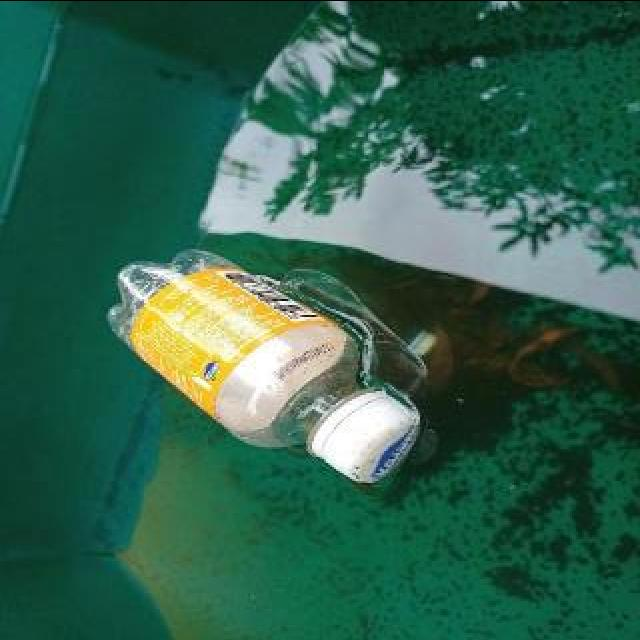Bottle: (103, 244, 427, 484)
